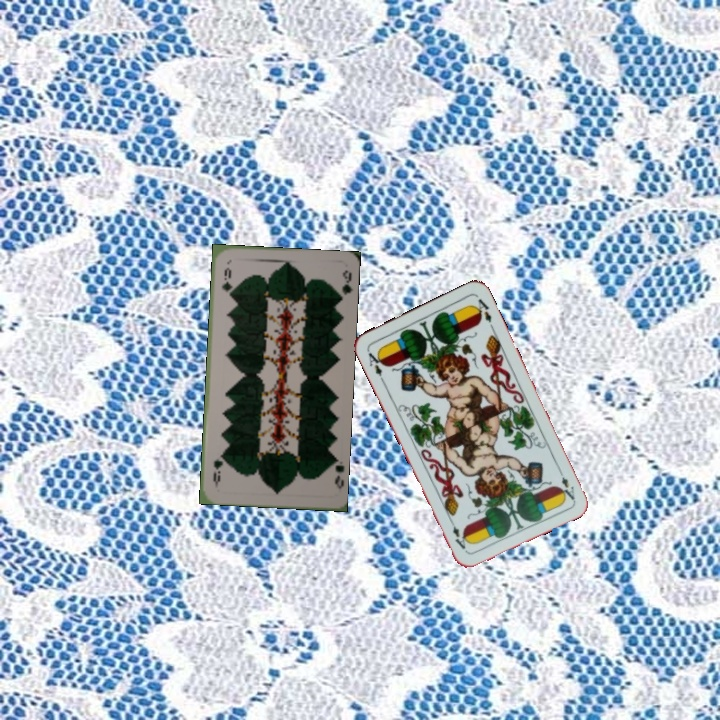EA: (554, 464, 577, 503), (364, 347, 387, 385)
G9: (325, 454, 345, 492), (218, 263, 234, 298)
